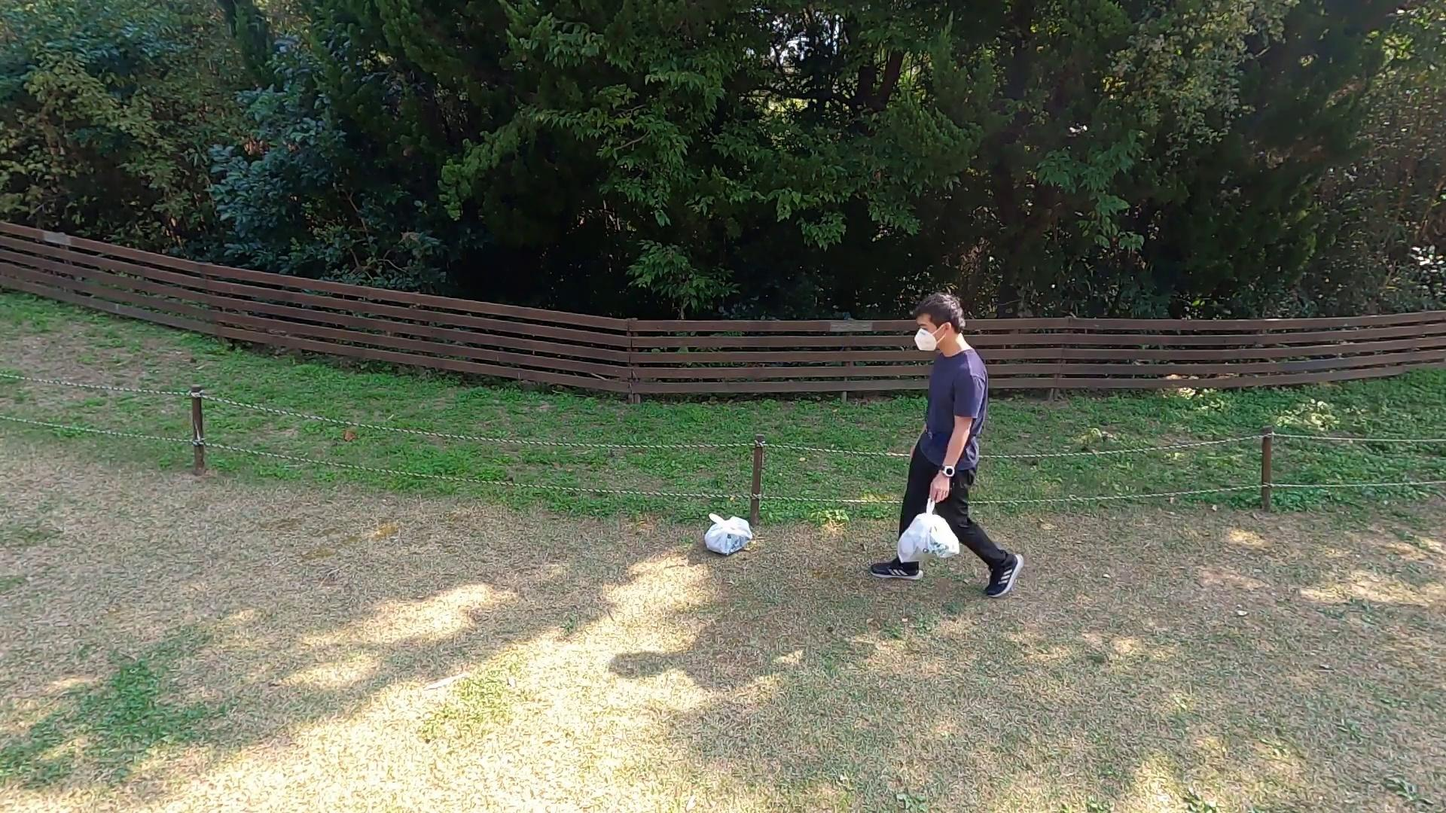person: (871, 294, 1026, 602)
trash: (897, 497, 962, 565), (702, 510, 755, 556)
